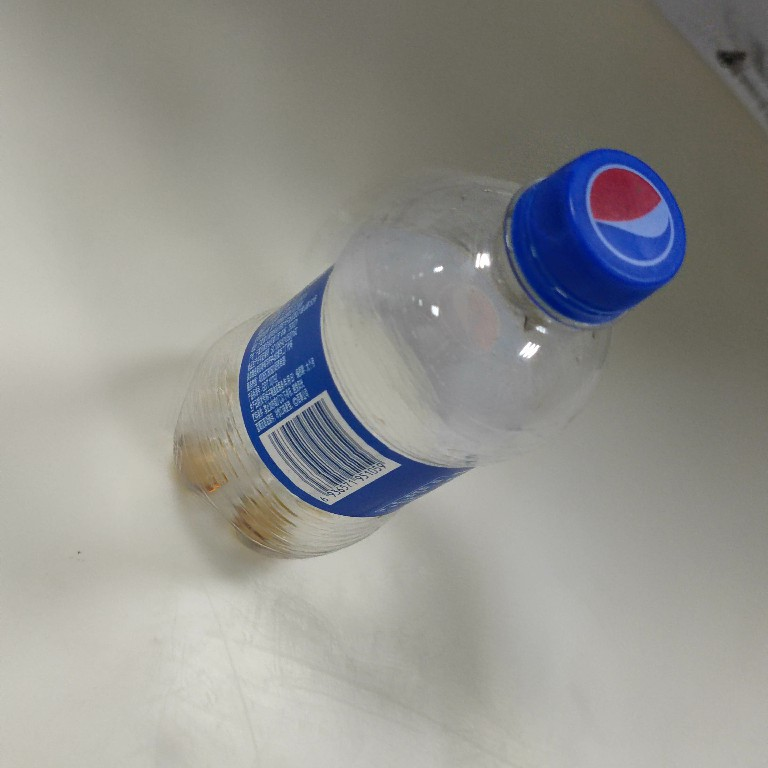bottle: (162, 143, 691, 564)
